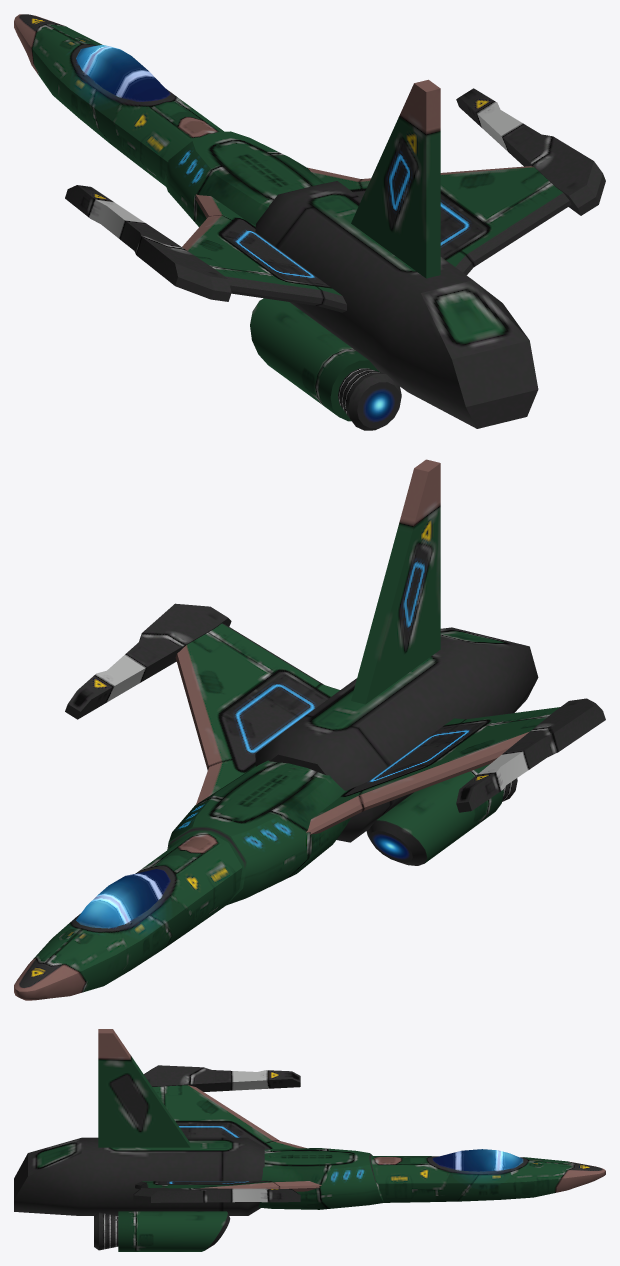
Rendered from scout14.gltf.
3 views of the same model, one above another, from view 1: azimuth 30°, elevation 25°; view 2: azimuth 150°, elevation 25°; view 3: azimuth 270°, elevation 25° (orthographic). The views are drawn at different scales.
Visible parts, largest first — view 1: scout14; view 2: scout14; view 3: scout14.
Boxes of the visible parts, x1,y1,x2,y2 form: scout14: [14, 14, 605, 430]; scout14: [14, 459, 605, 1000]; scout14: [14, 1029, 605, 1251].
Bounding box in the file's own units: 8.06 × 5.87 × 15.65.
1 material, 1 textured.
